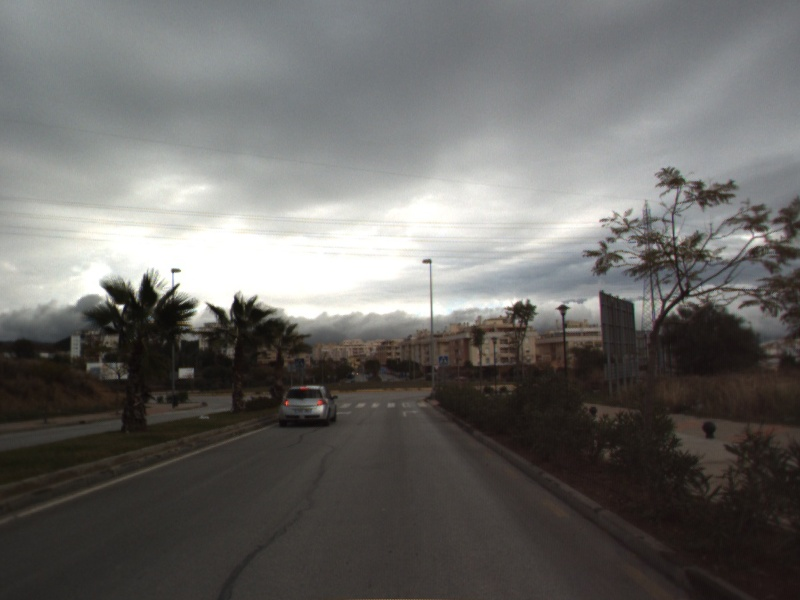RIGHT: (400, 408, 420, 419)
